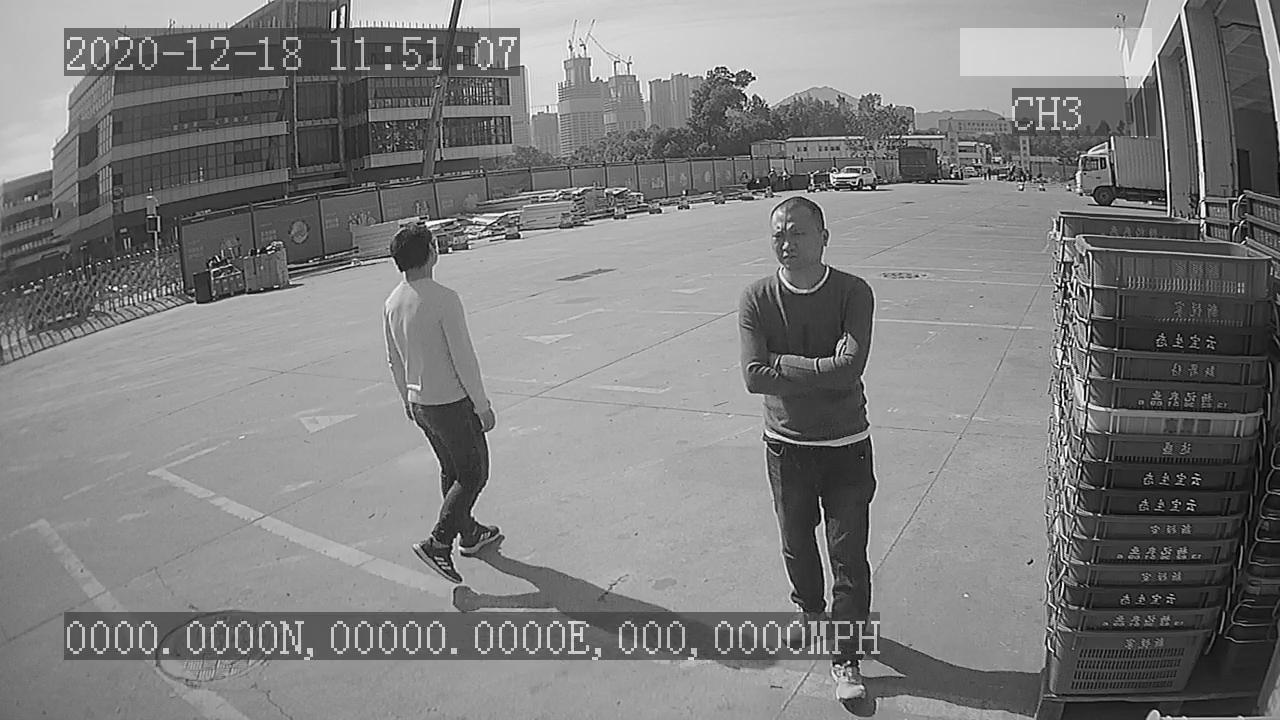person: (372, 217, 511, 594)
